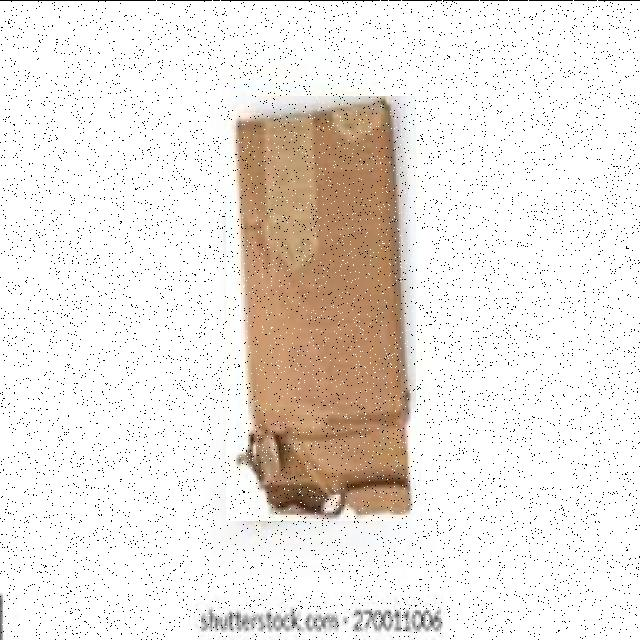defect: (226, 95, 416, 520)
